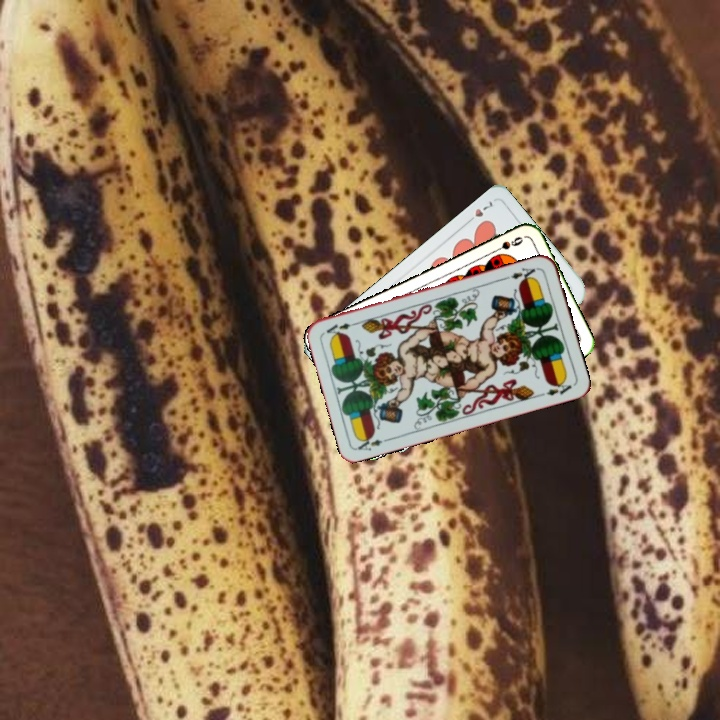EA: (501, 263, 541, 284), (353, 432, 393, 453)
H7: (462, 196, 497, 227)
S9: (488, 232, 526, 256)
